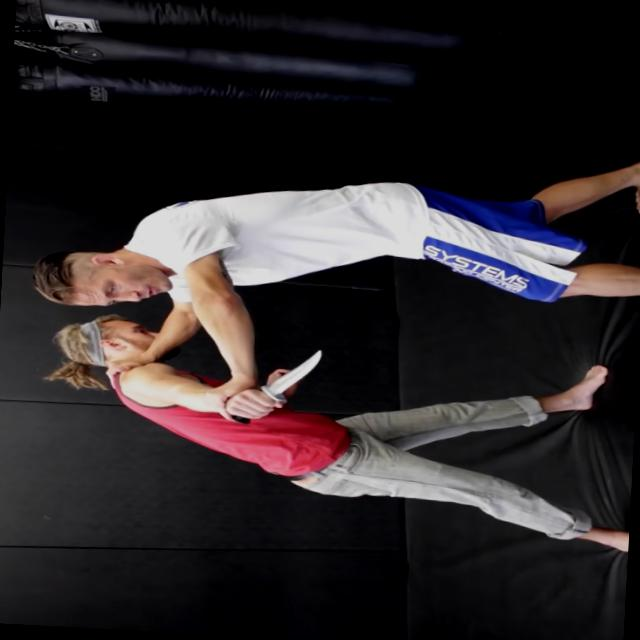knife: (217, 338, 333, 434)
